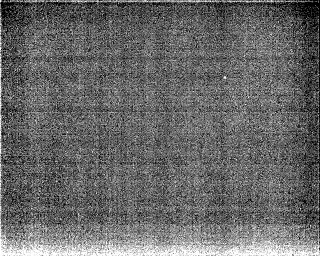BIRD: (221, 74, 229, 82)
